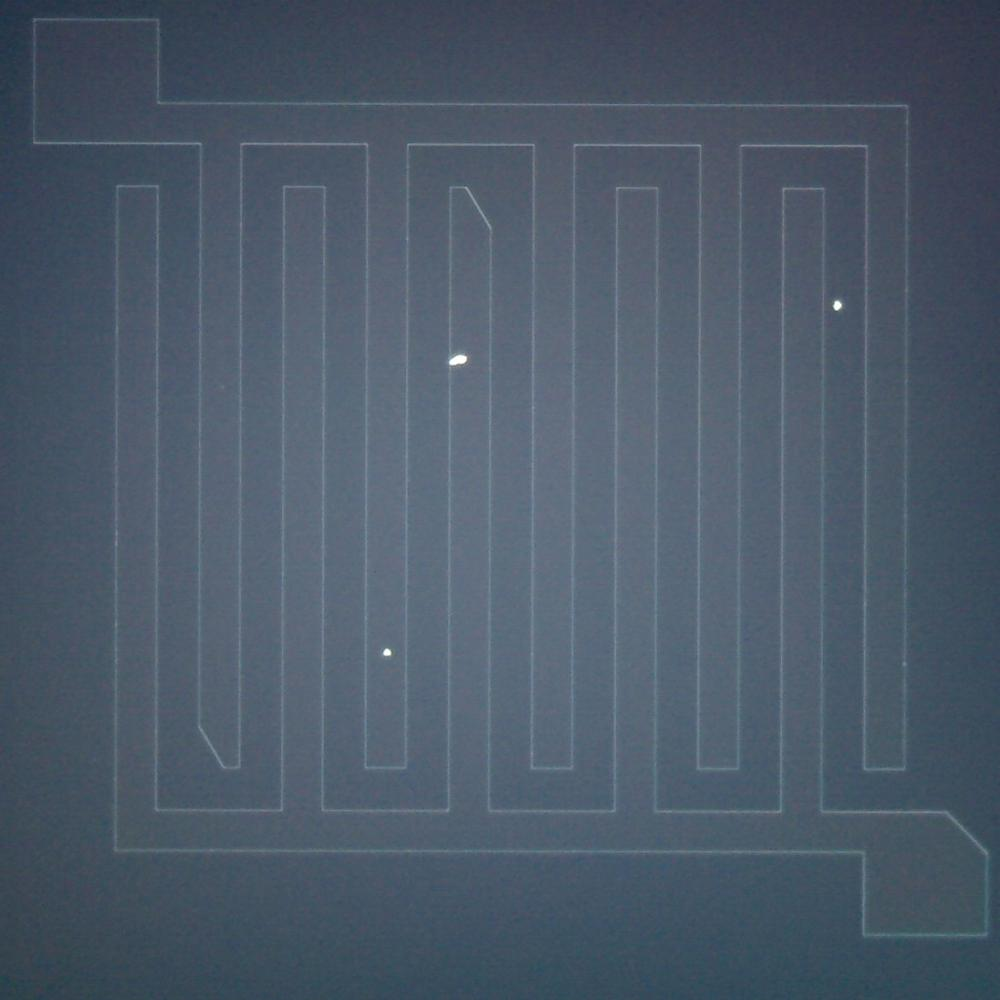dot: (451, 353, 466, 367), (832, 300, 843, 310), (382, 648, 392, 657)
